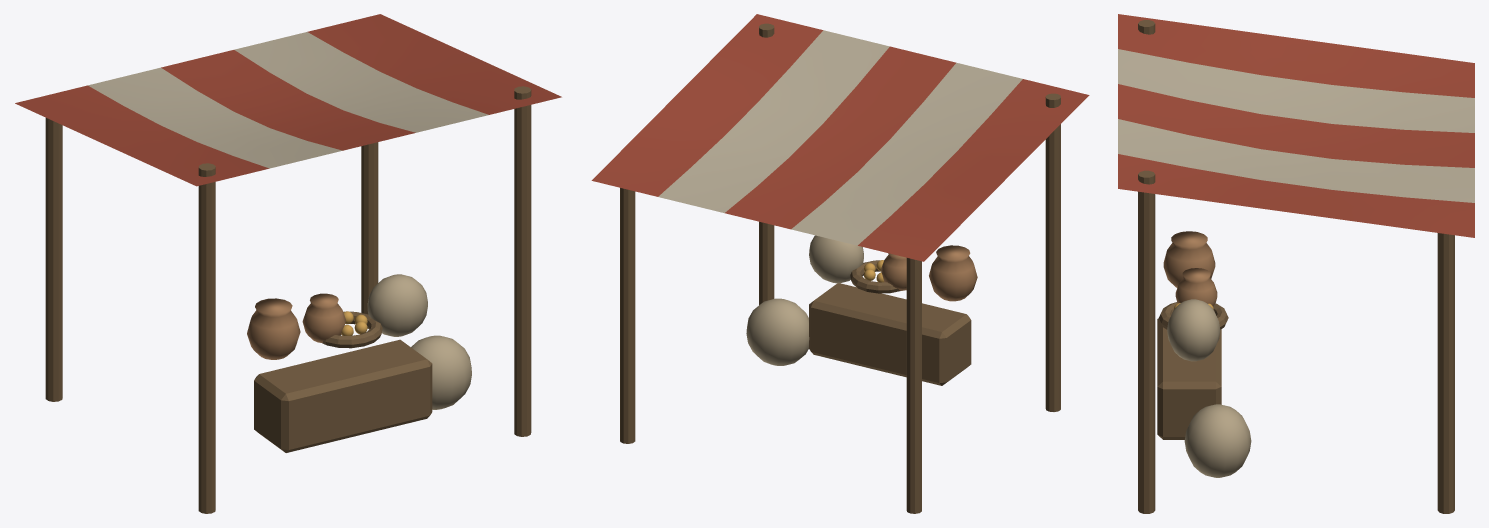
The model's file is bazaar_stall.glb.
3 views of the same model, side by side, from view 1: azimuth 30°, elevation 25°; view 2: azimuth 150°, elevation 25°; view 3: azimuth 270°, elevation 25° (orthographic). The views are drawn at different scales.
Visible parts, largest first — view 1: awning, counter, postF, postF.001, postB, sack1, postB.001, sack2, urn1, urn2, basket; view 2: awning, counter, postF, postB, postB.001, sack2, urn1, sack1, postF.001, urn2, basket; view 3: awning, postF.001, postB.001, counter, sack2, sack1, urn1, urn2, basket.
Boxes of the visible parts, box(x1,y1,x2,y2) form: awning: box(15, 14, 561, 186); counter: box(254, 339, 432, 452); postF: box(198, 163, 215, 513); postF.001: box(514, 86, 531, 436); postB: box(45, 118, 62, 401); sack1: box(367, 274, 427, 336); postB.001: box(361, 142, 378, 314); sack2: box(411, 335, 471, 409); urn1: box(247, 298, 300, 359); urn2: box(302, 293, 345, 342); basket: box(322, 311, 382, 348); awning: box(591, 14, 1089, 261); counter: box(809, 283, 971, 385); postF: box(1045, 93, 1060, 411); postB: box(906, 258, 921, 513); postB.001: box(620, 188, 635, 443); sack2: box(746, 298, 809, 365); urn1: box(929, 245, 977, 301); sack1: box(809, 235, 863, 283); postF.001: box(759, 23, 774, 304); urn2: box(881, 253, 906, 290); basket: box(850, 260, 900, 293); awning: box(1118, 14, 1474, 237); postF.001: box(1138, 170, 1155, 513); postB.001: box(1437, 233, 1454, 513); counter: box(1157, 318, 1221, 439); sack2: box(1184, 404, 1251, 477); sack1: box(1167, 299, 1220, 361); urn1: box(1163, 231, 1215, 287); urn2: box(1175, 268, 1217, 306); basket: box(1159, 302, 1228, 329).
Bounding box in the file's own units: 2.9 × 2.6 × 2.5.
